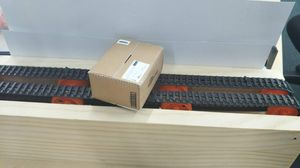box1: (86, 35, 164, 112)
